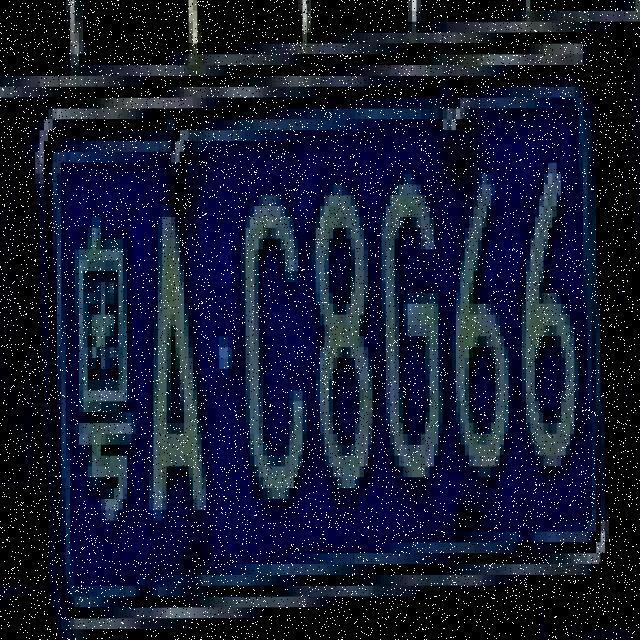LicensePlate: (33, 75, 610, 626)
